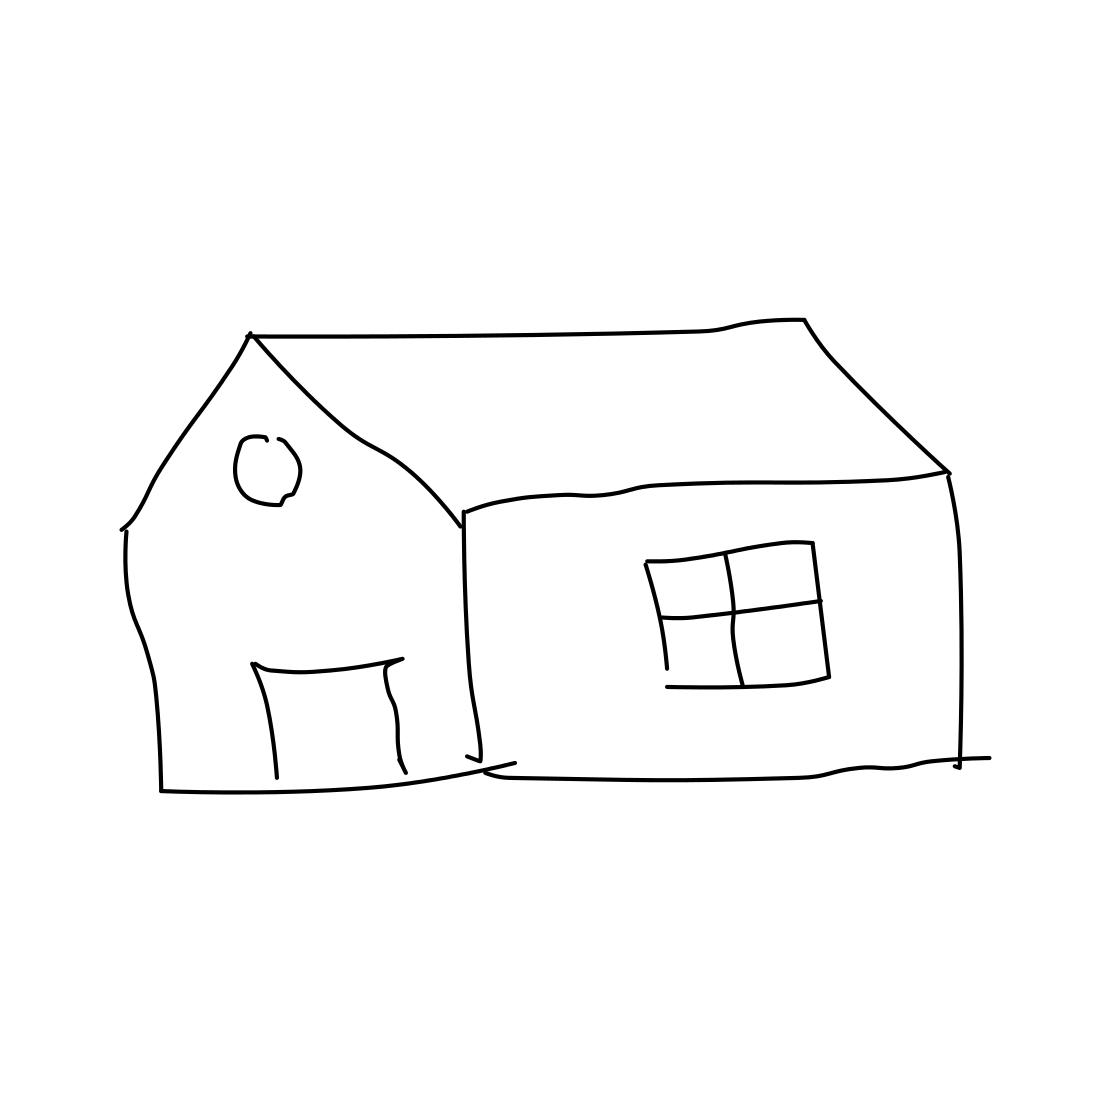House: (70, 287, 1012, 816)
